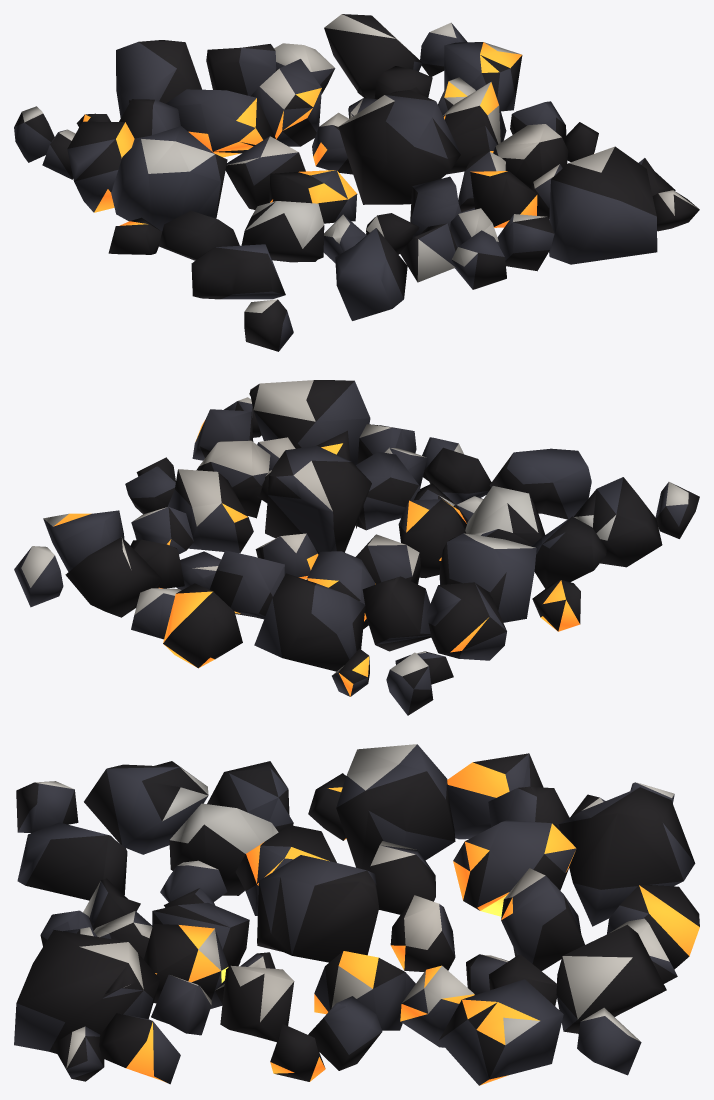
The model's file is ember_coal_bed_lod2.glb.
3 renders of one model, top to bottom at view 1: azimuth 30°, elevation 25°; view 2: azimuth 150°, elevation 25°; view 3: azimuth 270°, elevation 25°, orthographic. The views are drawn at different scales.
Parts seen in each view (by area): view 1: ember_coal_bed.001; view 2: ember_coal_bed.001; view 3: ember_coal_bed.001.
Boxes of the visible parts, x1=… form: ember_coal_bed.001: x1=14, y1=14, x2=699, y2=351; ember_coal_bed.001: x1=14, y1=380, x2=699, y2=715; ember_coal_bed.001: x1=14, y1=744, x2=699, y2=1085.
Bounding box in the file's own units: 11.7 × 2.35 × 12.01.
